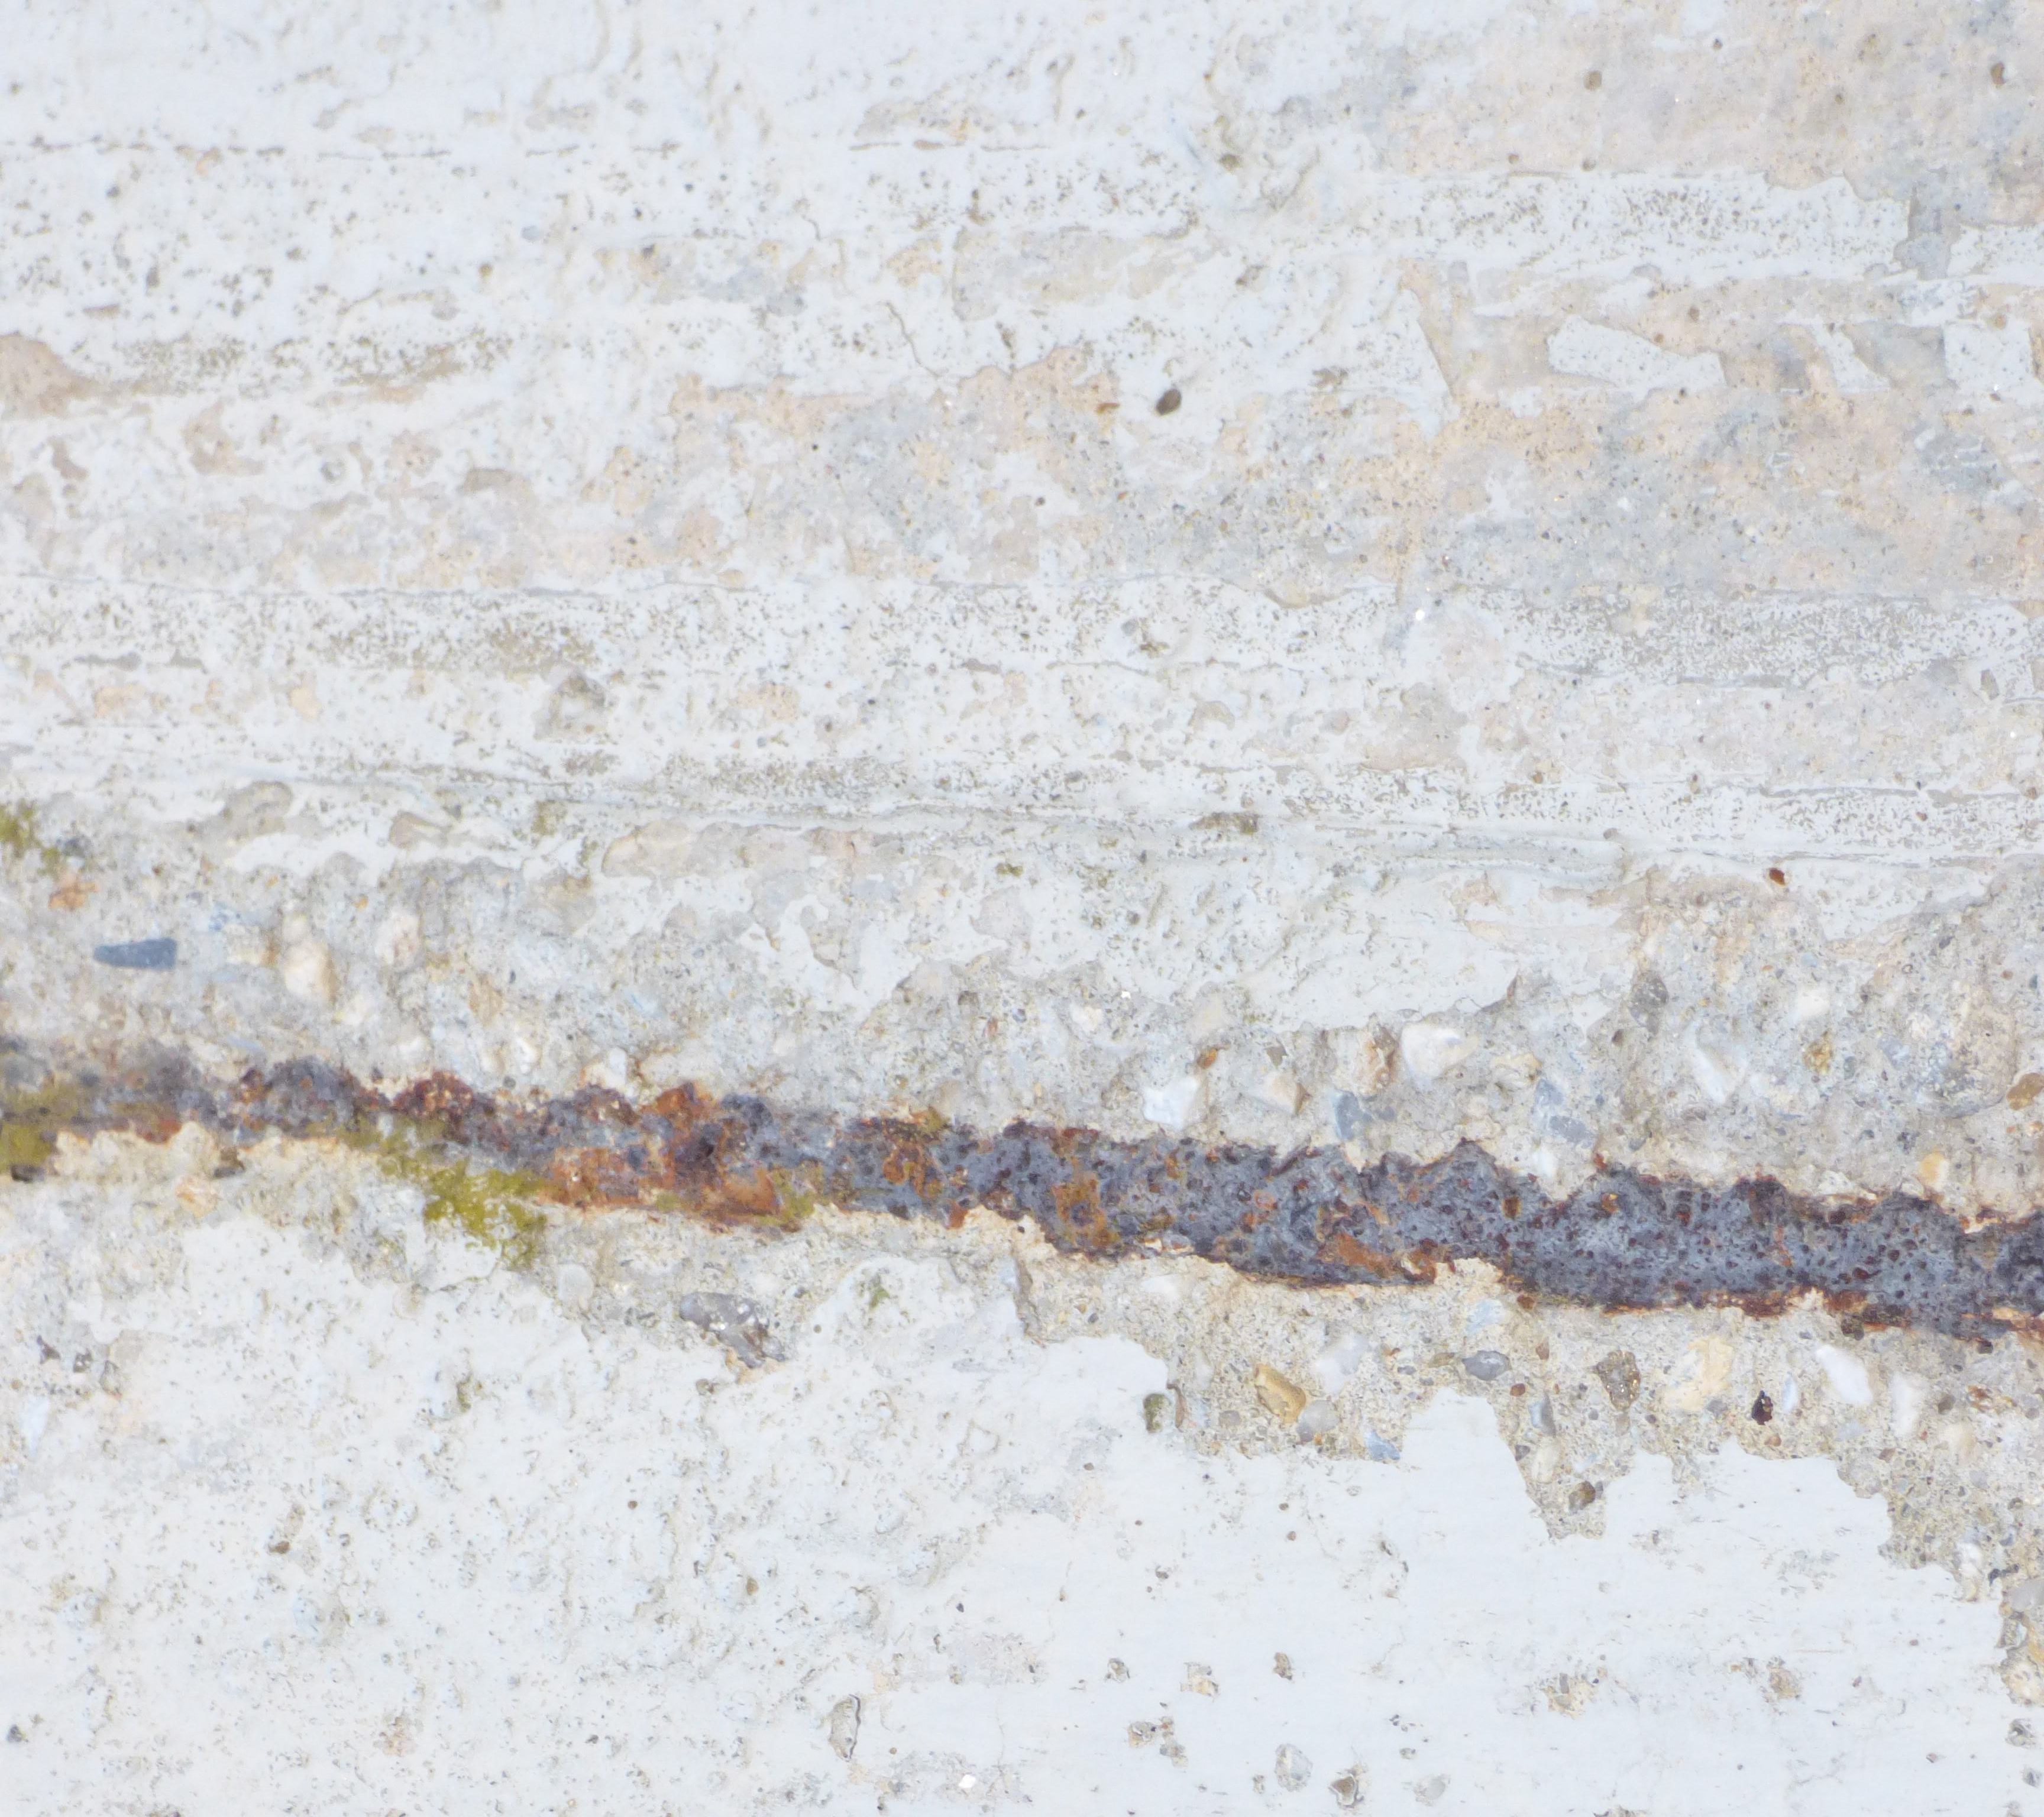Exposed reinforcement: (0, 1031, 2044, 1347)
Spalling: (0, 854, 2044, 1687)
